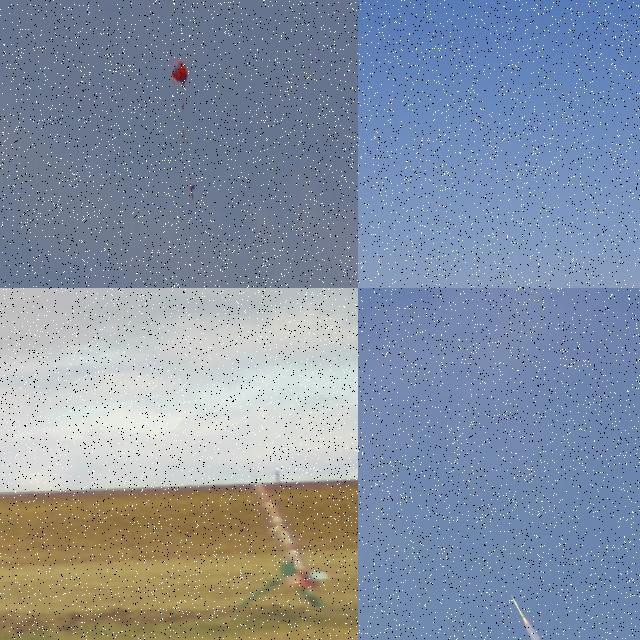Rocket: (253, 479, 330, 588), (510, 595, 526, 618)
